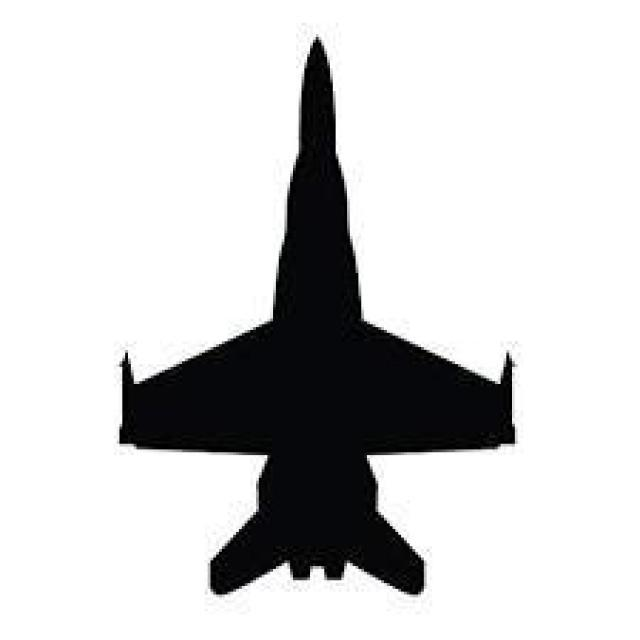MIL_MBT: (74, 44, 529, 573)
